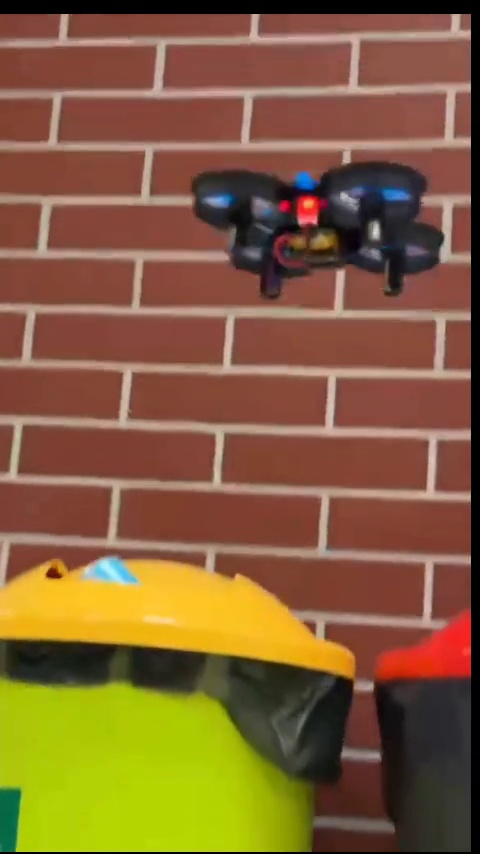drone: (192, 162, 444, 301)
